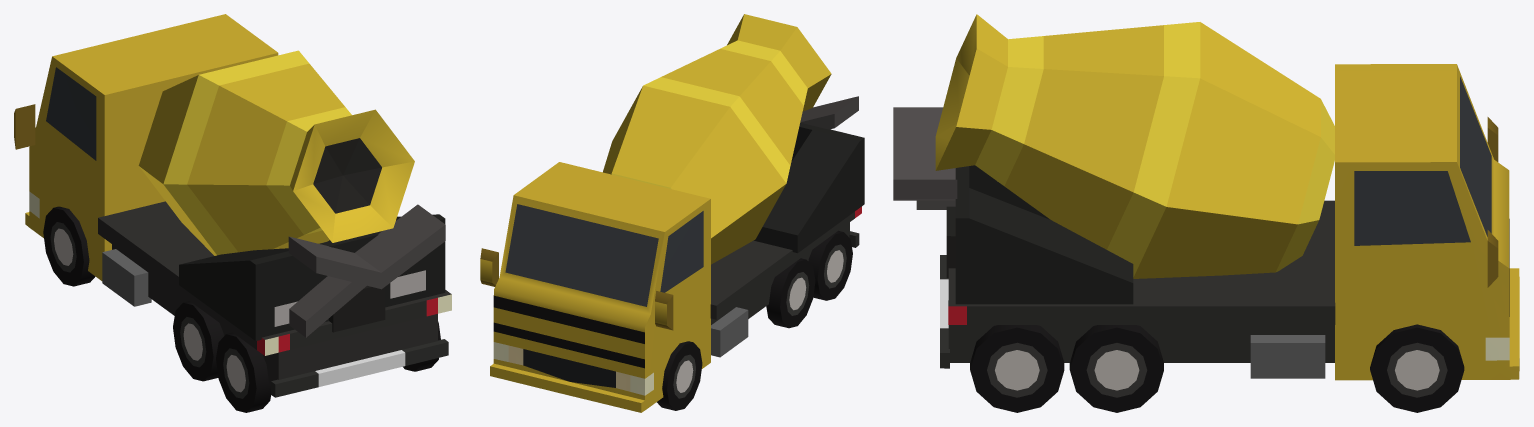
The model's file is Truck002_Yellow.fbx.
3 views of the same model, side by side, from view 1: azimuth 30°, elevation 25°; view 2: azimuth 150°, elevation 25°; view 3: azimuth 270°, elevation 25° (orthographic). The views are drawn at different scales.
Visible parts, largest first — view 1: Trunk002_Yellow; view 2: Trunk002_Yellow; view 3: Trunk002_Yellow.
Boxes of the visible parts, x1,y1,x2,y2 form: Trunk002_Yellow: [14, 14, 451, 412]; Trunk002_Yellow: [480, 14, 864, 412]; Trunk002_Yellow: [893, 14, 1519, 412].
Bounding box in the file's own units: 236 × 291 × 503.
